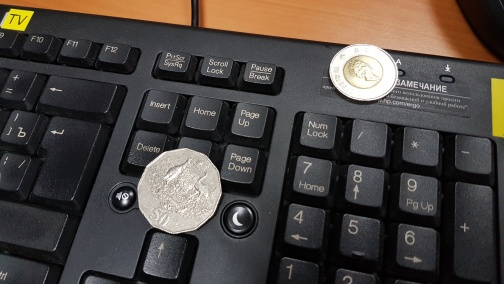coin: (136, 147, 223, 235), (329, 43, 398, 104)
